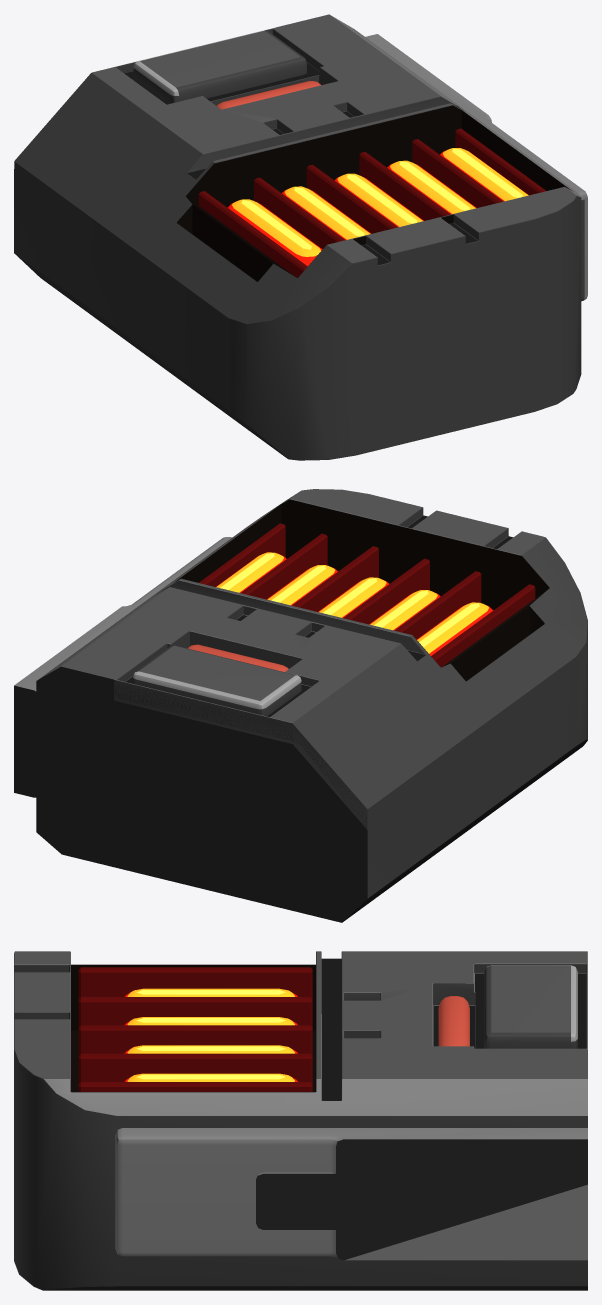
The model's file is ixm_dock_bl.glb.
3 views of the same model, one above another, from view 1: azimuth 30°, elevation 25°; view 2: azimuth 150°, elevation 25°; view 3: azimuth 270°, elevation 25° (orthographic). The views are drawn at different scales.
Parts seen in each view (by area): view 1: ixm_dock_bl; view 2: ixm_dock_bl; view 3: ixm_dock_bl.
Part boxes in pixels (box(x1,y1,x2,y2)): ixm_dock_bl: box(14, 14, 587, 460); ixm_dock_bl: box(14, 489, 587, 922); ixm_dock_bl: box(14, 951, 587, 1290).
Size of the model in its own units: 20.7 by 10.88 by 25.75.
